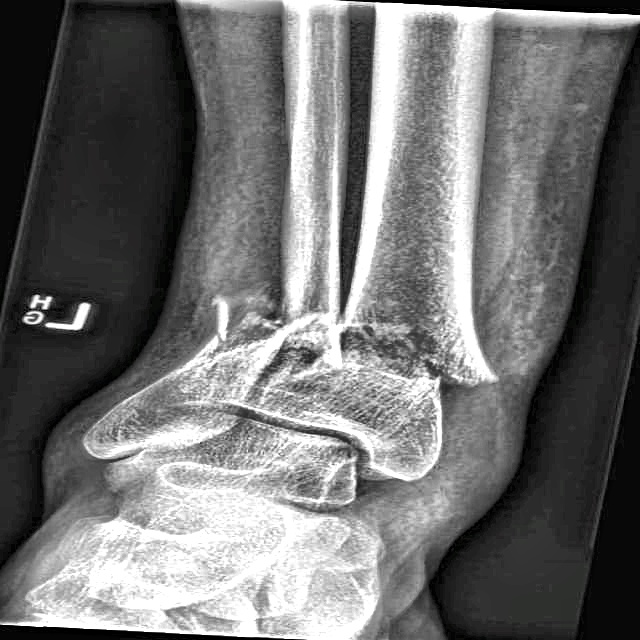Comminuted: (324, 305, 502, 400), (200, 286, 353, 362)
